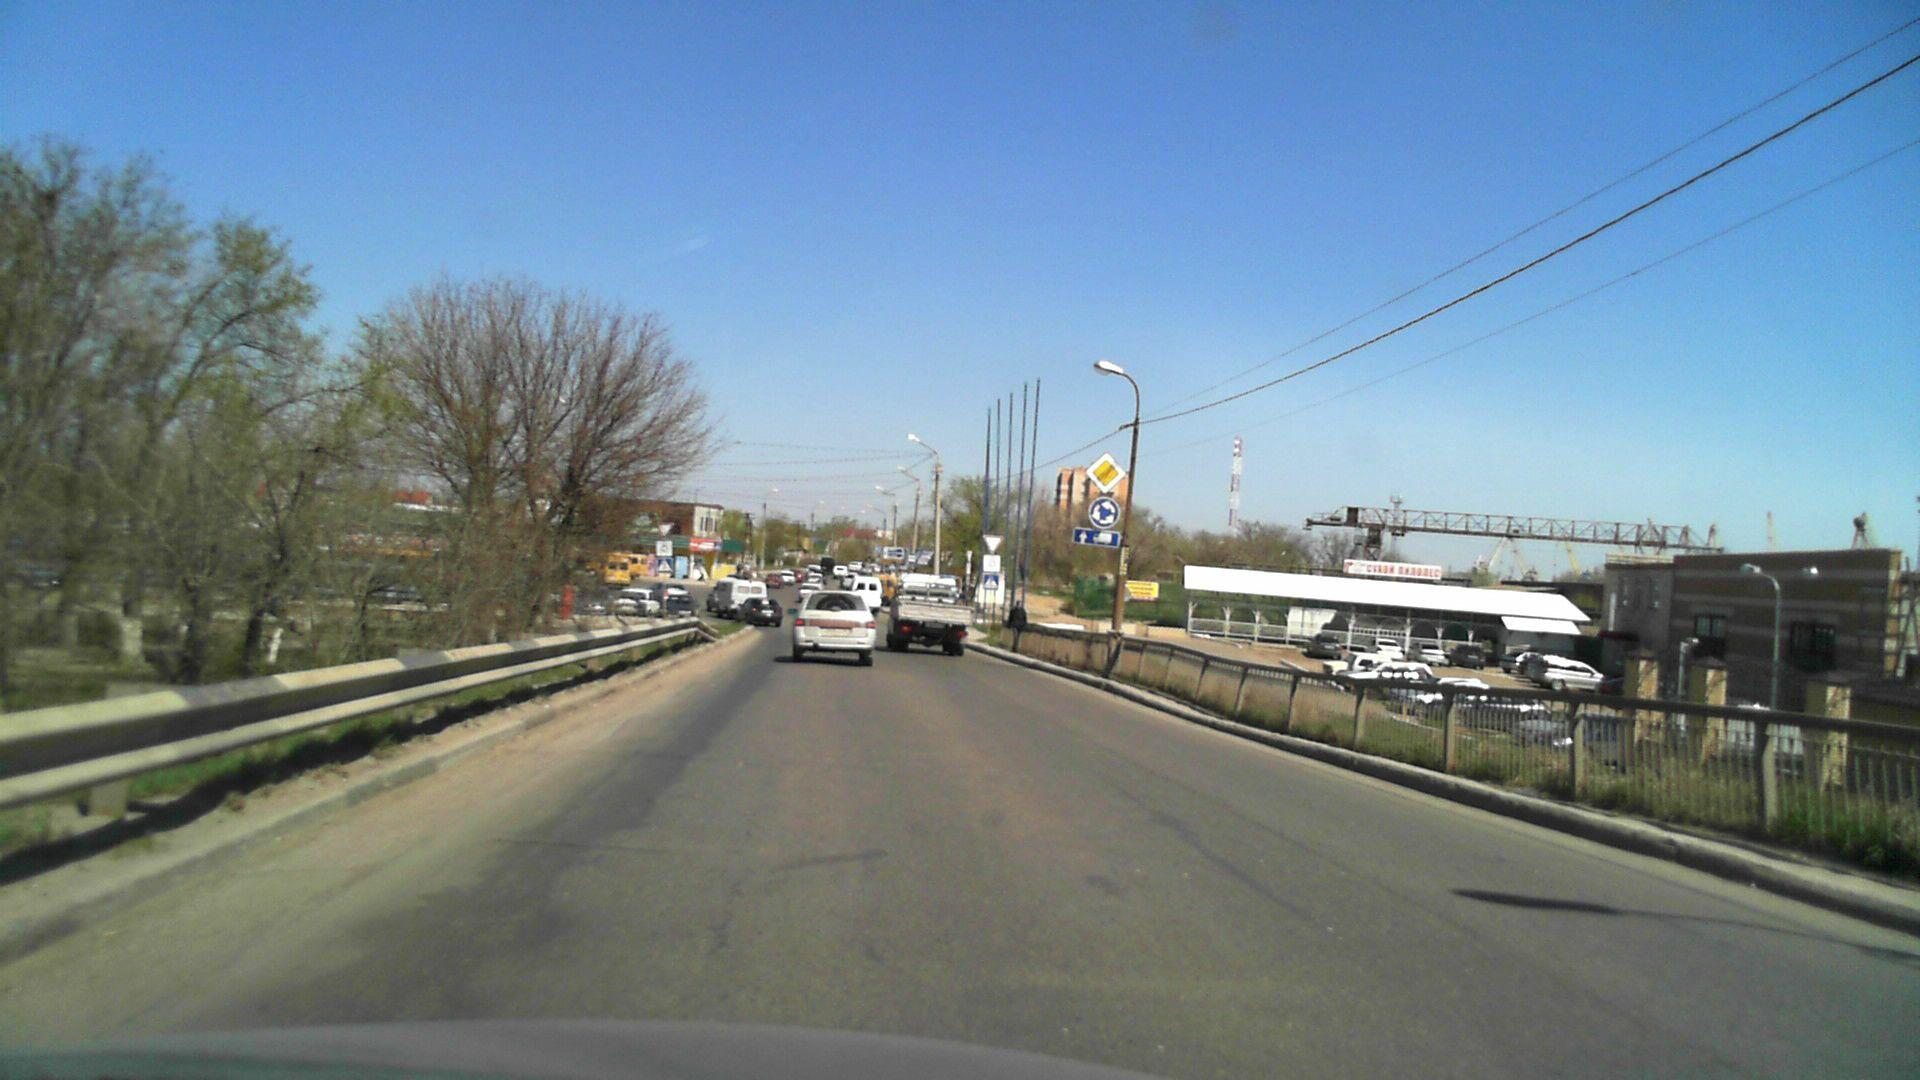2_2: (1080, 450, 1127, 493)
2_4: (981, 533, 1004, 555), (657, 521, 674, 537)
4_3: (1088, 496, 1121, 529)
5_16: (909, 553, 916, 567)
5_19_1: (982, 574, 998, 592)
5_19_2: (655, 559, 673, 572)
6_10_1: (882, 542, 906, 563)
6_15_1: (1073, 527, 1120, 549)
8_13: (981, 555, 1000, 572), (655, 541, 674, 556)
